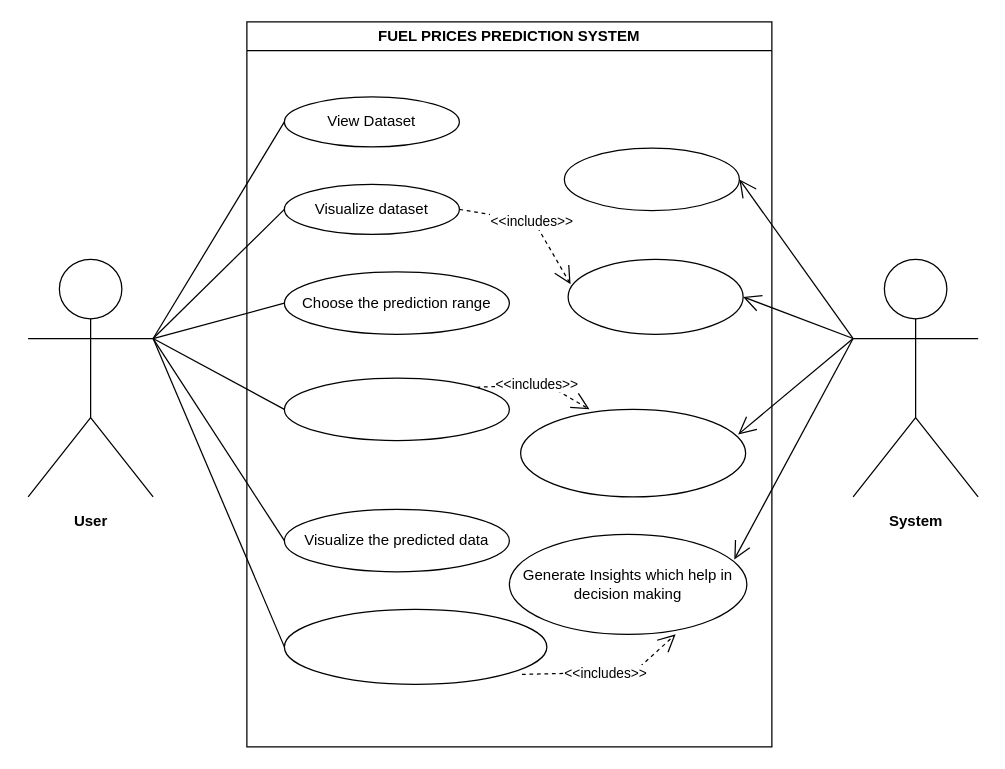
Some shapes in this 1005 by 769 pixel diagram are drawn without their labels. Here are the shapes that lost their labels. From the top down, the box of each, then its label:
(563, 147, 739, 211): clean Dataset
(567, 258, 743, 334): Data Reading & Processing
(283, 377, 509, 441): View predicted results
(519, 408, 746, 497): Generate prediction of future Fuel Prices
(283, 608, 547, 684): Get insights and decision making assistance
